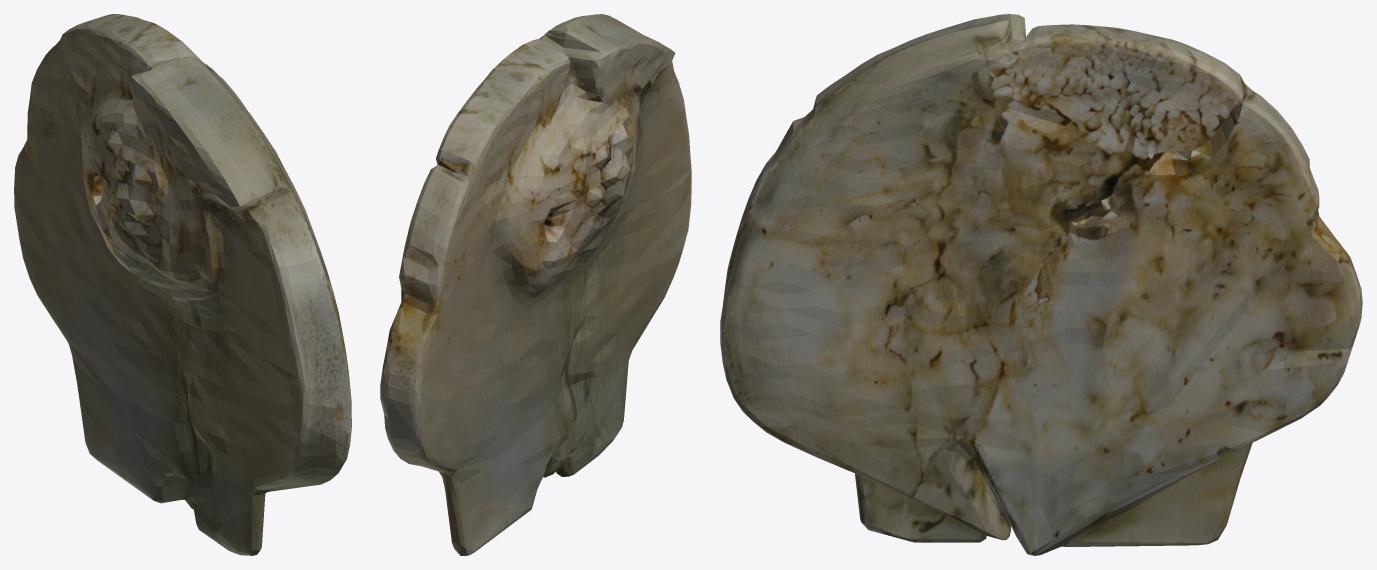
File: shellfish_001.glb
3 renders of one model, left to right at view 1: azimuth 30°, elevation 25°; view 2: azimuth 150°, elevation 25°; view 3: azimuth 270°, elevation 25°, orthographic. The views are drawn at different scales.
Parts seen in each view (by area): view 1: tripo_node_89b82ffa-55f7-4425-bd9f-62f86fc55c42; view 2: tripo_node_89b82ffa-55f7-4425-bd9f-62f86fc55c42; view 3: tripo_node_89b82ffa-55f7-4425-bd9f-62f86fc55c42.
Boxes of the visible parts, x1,y1,x2,y2 form: tripo_node_89b82ffa-55f7-4425-bd9f-62f86fc55c42: (14,14,351,555); tripo_node_89b82ffa-55f7-4425-bd9f-62f86fc55c42: (380,14,691,555); tripo_node_89b82ffa-55f7-4425-bd9f-62f86fc55c42: (720,14,1362,555).
Size of the model in its own units: 0.2043 by 0.8409 by 0.9467.
1 material, 1 textured.
